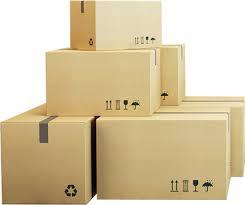Cardboard: (6, 0, 245, 205)
